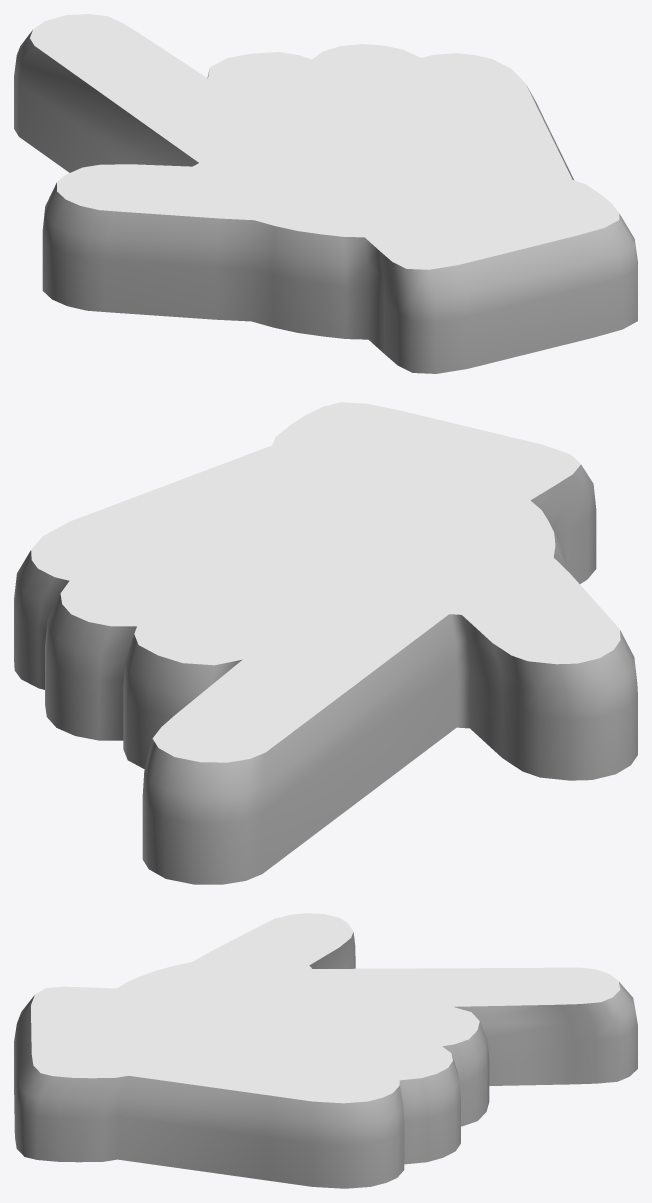
The model's file is shou.FBX.
The picture shows the model from 3 angles, top to bottom: view 1: azimuth 30°, elevation 25°; view 2: azimuth 150°, elevation 25°; view 3: azimuth 270°, elevation 25°; orthographic projection. The views are drawn at different scales.
Parts seen in each view (by area): view 1: Line001; view 2: Line001; view 3: Line001.
Part boxes in pixels (x1,y1,x2,y2): Line001: (14,14,637,373); Line001: (14,402,637,884); Line001: (14,913,637,1188).
Bounding box in the file's own units: 64.53 × 11.97 × 84.55.
1 material, 1 textured.
